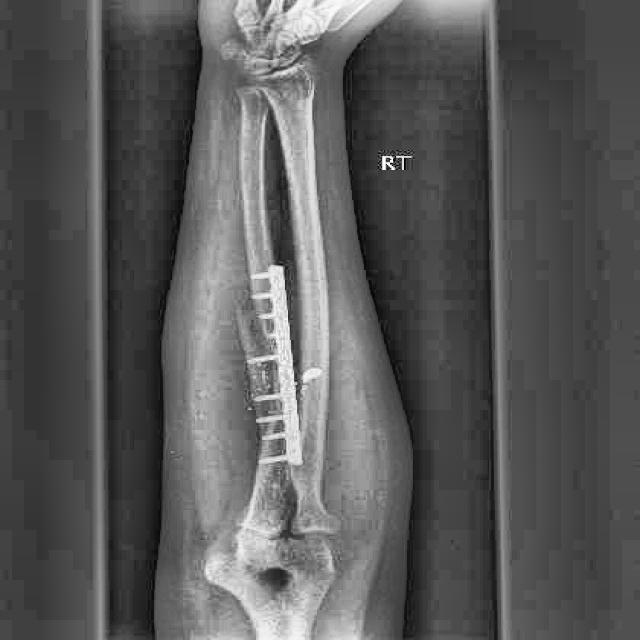forearm fracture: (212, 298, 285, 397)
